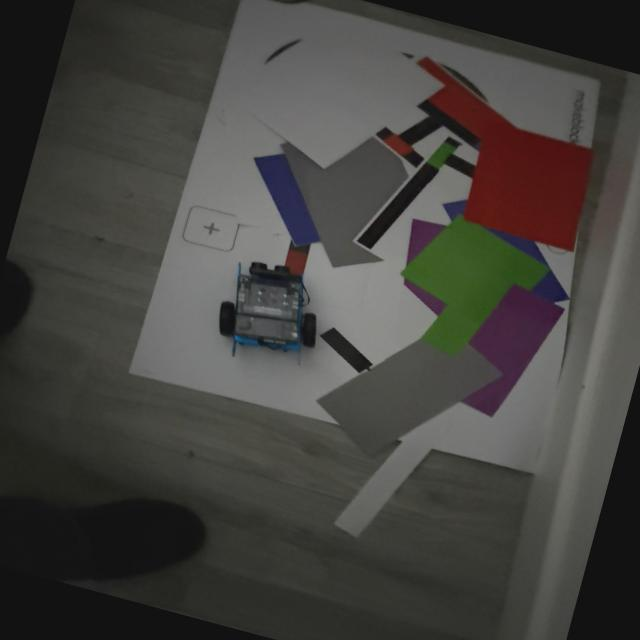mbot-detection: (200, 244, 339, 382)
